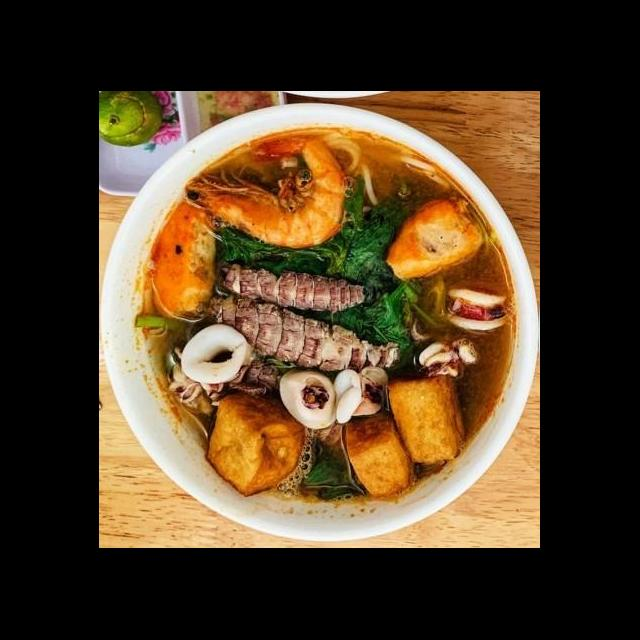bun: (320, 127, 454, 210)
bun hai san: (112, 128, 536, 534)
dau hu: (200, 392, 310, 499), (382, 372, 470, 468), (338, 408, 418, 503)
muc: (274, 362, 394, 434), (176, 321, 260, 392), (414, 332, 486, 389), (442, 282, 514, 336)
tom: (182, 130, 354, 252)
tom tit: (192, 290, 410, 376), (210, 256, 373, 318)
